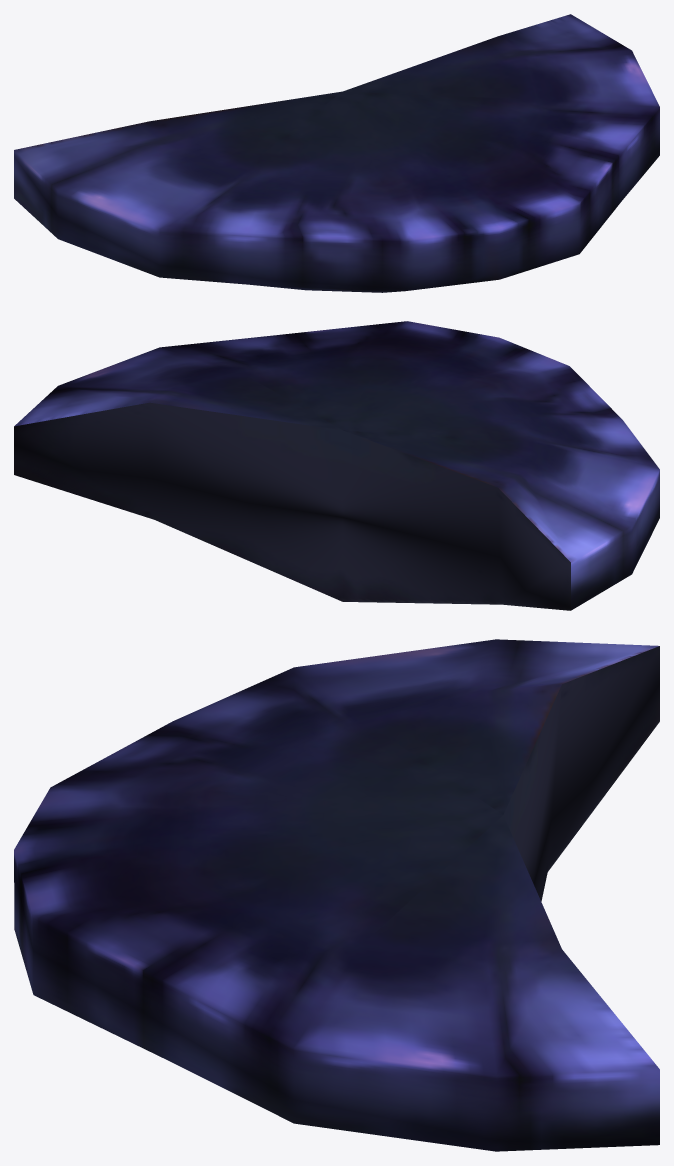
Rendered from Mushroom01.fbx.
3 renders of one model, top to bottom at view 1: azimuth 30°, elevation 25°; view 2: azimuth 150°, elevation 25°; view 3: azimuth 270°, elevation 25°, orthographic. The views are drawn at different scales.
Visible parts, largest first — view 1: Mushroom01; view 2: Mushroom01; view 3: Mushroom01.
Part boxes in pixels (x1=…): Mushroom01: x1=14, y1=14, x2=659, y2=292; Mushroom01: x1=14, y1=321, x2=659, y2=610; Mushroom01: x1=14, y1=639, x2=659, y2=1151.
Bounding box in the file's own units: 1.36 × 0.3873 × 0.8481.
